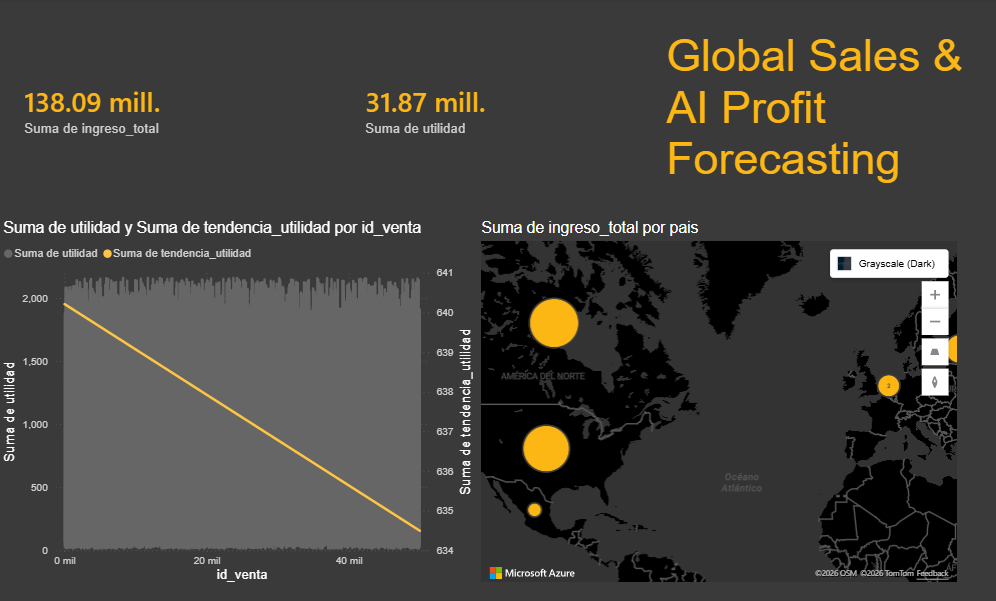

What the dashboard file says about the page in this screenshot:
{"tool":"powerbi","page":{"name":"Página 1","canvas":[1280,720],"ordinal":0},"visuals":[{"type":"lineChart","fields":{"Category":["datos_finales.id_venta"],"Y":["Sum(datos_finales.utilidad)"],"Y2":["Sum(datos_finales.tendencia_utilidad)"]},"box":[0,262.9,568.6,436.6],"z":0},{"type":"azureMap","fields":{"Category":["datos_finales.pais"],"Size":["Sum(datos_finales.ingreso_total)"]},"box":[568.6,262.9,575.8,436.6],"z":1000},{"type":"cardVisual","fields":{"Data":["Sum(datos_finales.ingreso_total)"]},"box":[0,0,405.7,262.9],"z":2000},{"type":"cardVisual","fields":{"Data":["Sum(datos_finales.utilidad)"]},"box":[405.7,0,383,262.9],"z":3000},{"type":"textbox","box":[788.7,33.3,383,229.6],"z":4000}]}

Visuals, with their boxes in screenshot pixels (x1, y1, x2, y2):
lineChart - datos_finales.id_venta x Sum(datos_finales.utilidad): l=10, t=225, r=463, b=572
azureMap - datos_finales.pais x Sum(datos_finales.ingreso_total): l=463, t=225, r=921, b=572
cardVisual - Sum(datos_finales.ingreso_total): l=10, t=16, r=333, b=225
cardVisual - Sum(datos_finales.utilidad): l=333, t=16, r=638, b=225
textbox: l=638, t=42, r=943, b=225
